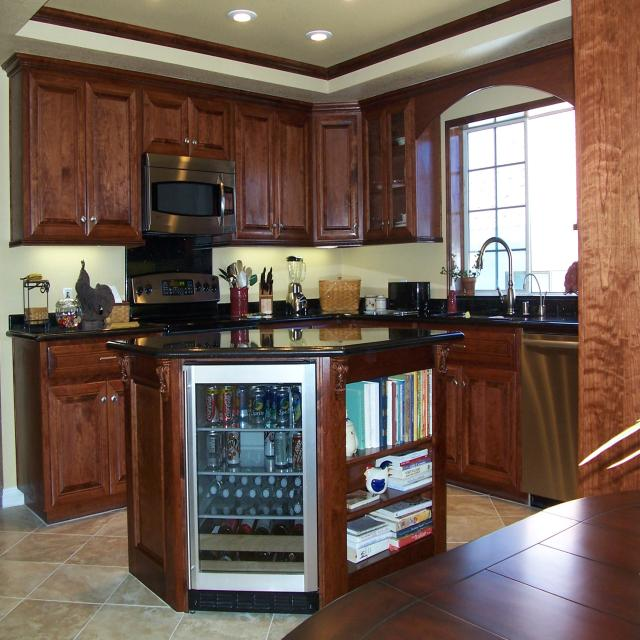Appliance_Dishwasher: (520, 331, 583, 503)
Appliance_Microwave: (141, 153, 236, 243)
Appliance_Oven: (130, 272, 259, 335)
Appliance_Sink: (474, 237, 515, 316), (522, 273, 546, 319), (522, 299, 529, 316)
Cabinet_Glass: (361, 98, 418, 245)
Cabinet_Raised_Panel: (39, 340, 127, 525), (440, 328, 522, 492)
Cabinet_Shaker: (21, 72, 368, 248)
Countertop_Granite: (106, 328, 466, 357), (253, 314, 579, 328), (6, 323, 167, 341)
Countertop_Wood: (283, 493, 640, 640)
